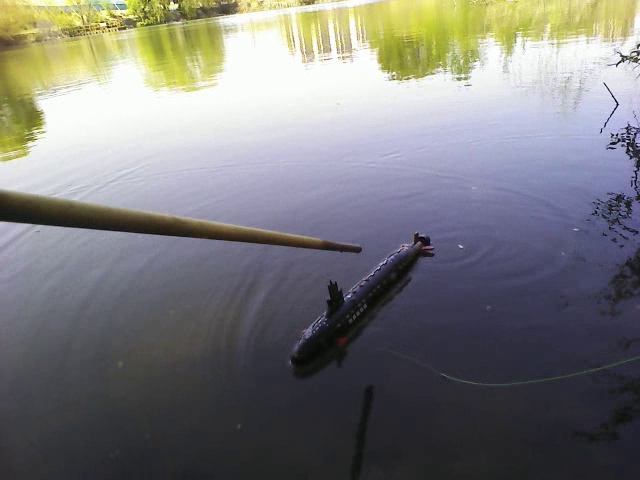submarine: (282, 231, 434, 367)
